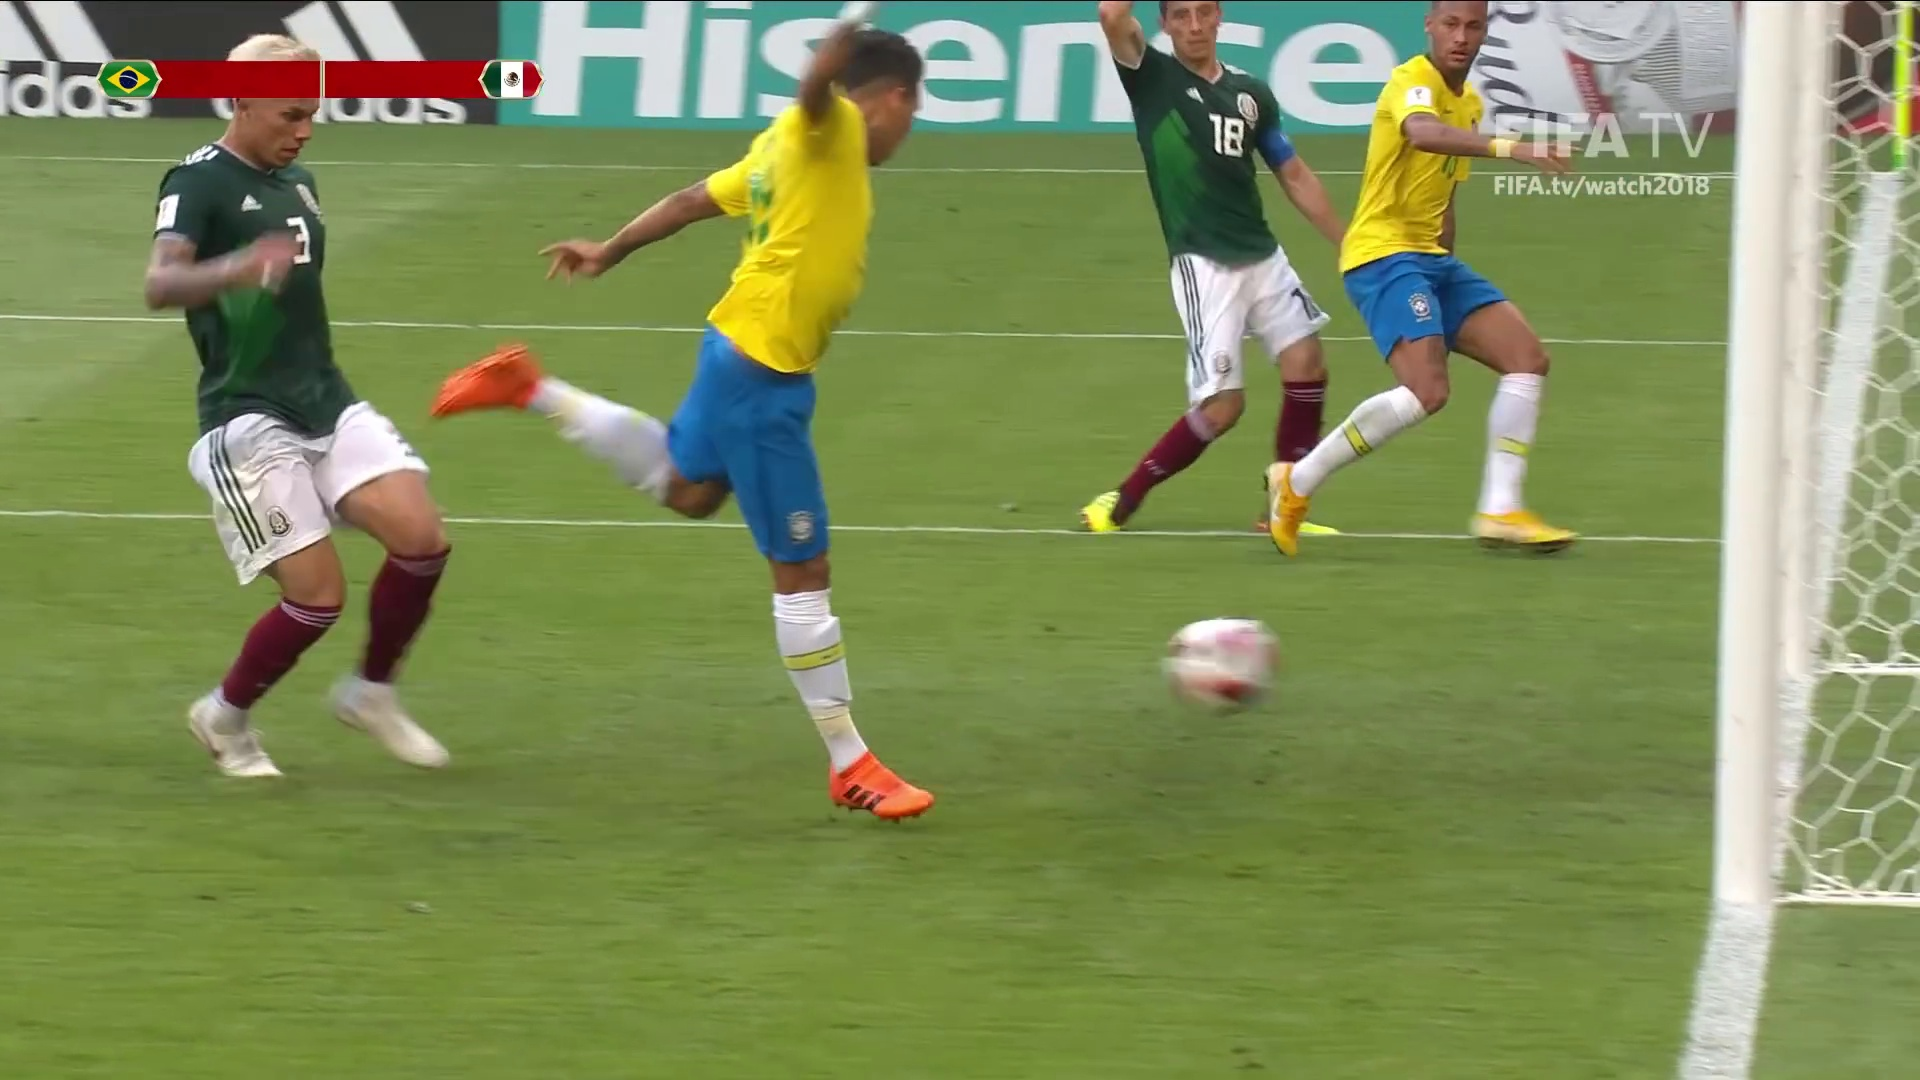ball: (1167, 624, 1282, 711)
person: (442, 22, 936, 815), (151, 34, 463, 772), (1284, 5, 1573, 553), (1086, 1, 1334, 538)
